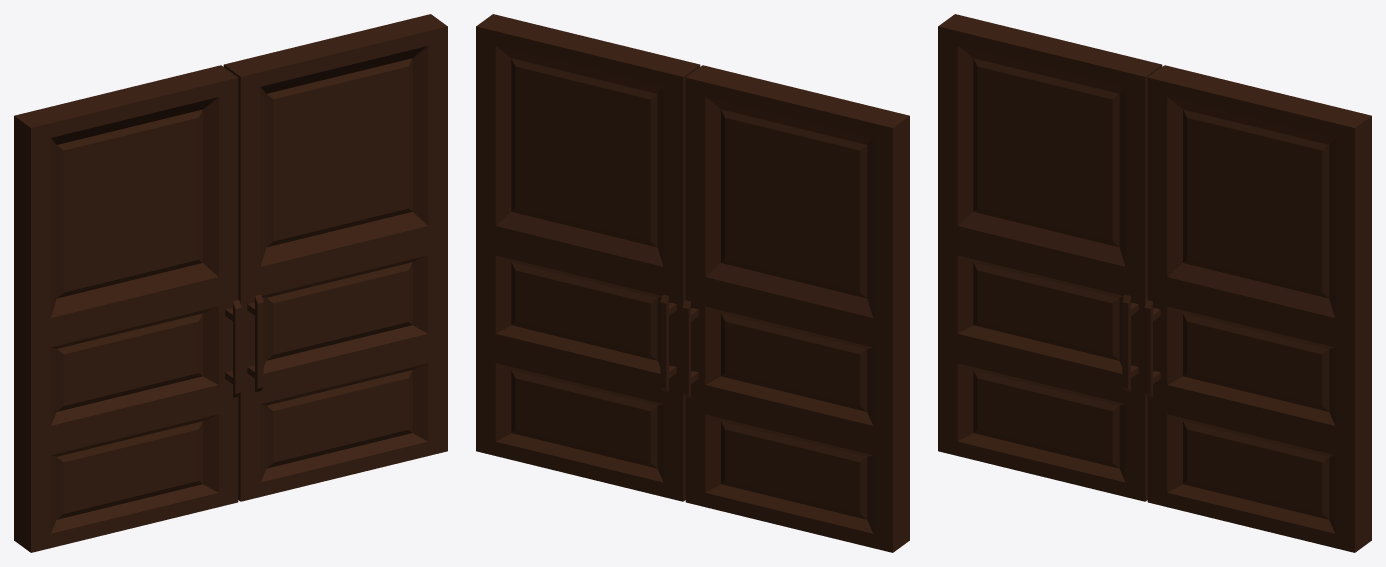
The model's file is F_bossromm_door.fbx.
The picture shows the model from 3 angles, left to right: view 1: azimuth 30°, elevation 25°; view 2: azimuth 150°, elevation 25°; view 3: azimuth 330°, elevation 25°; orthographic projection.
Visible parts, largest first — view 1: door; view 2: door; view 3: door.
Part boxes in pixels (bbox=[...]): door: bbox=[14, 14, 447, 552]; door: bbox=[476, 14, 909, 552]; door: bbox=[938, 14, 1371, 552].
Bounding box in the file's own units: 164 × 160 × 25.38.
